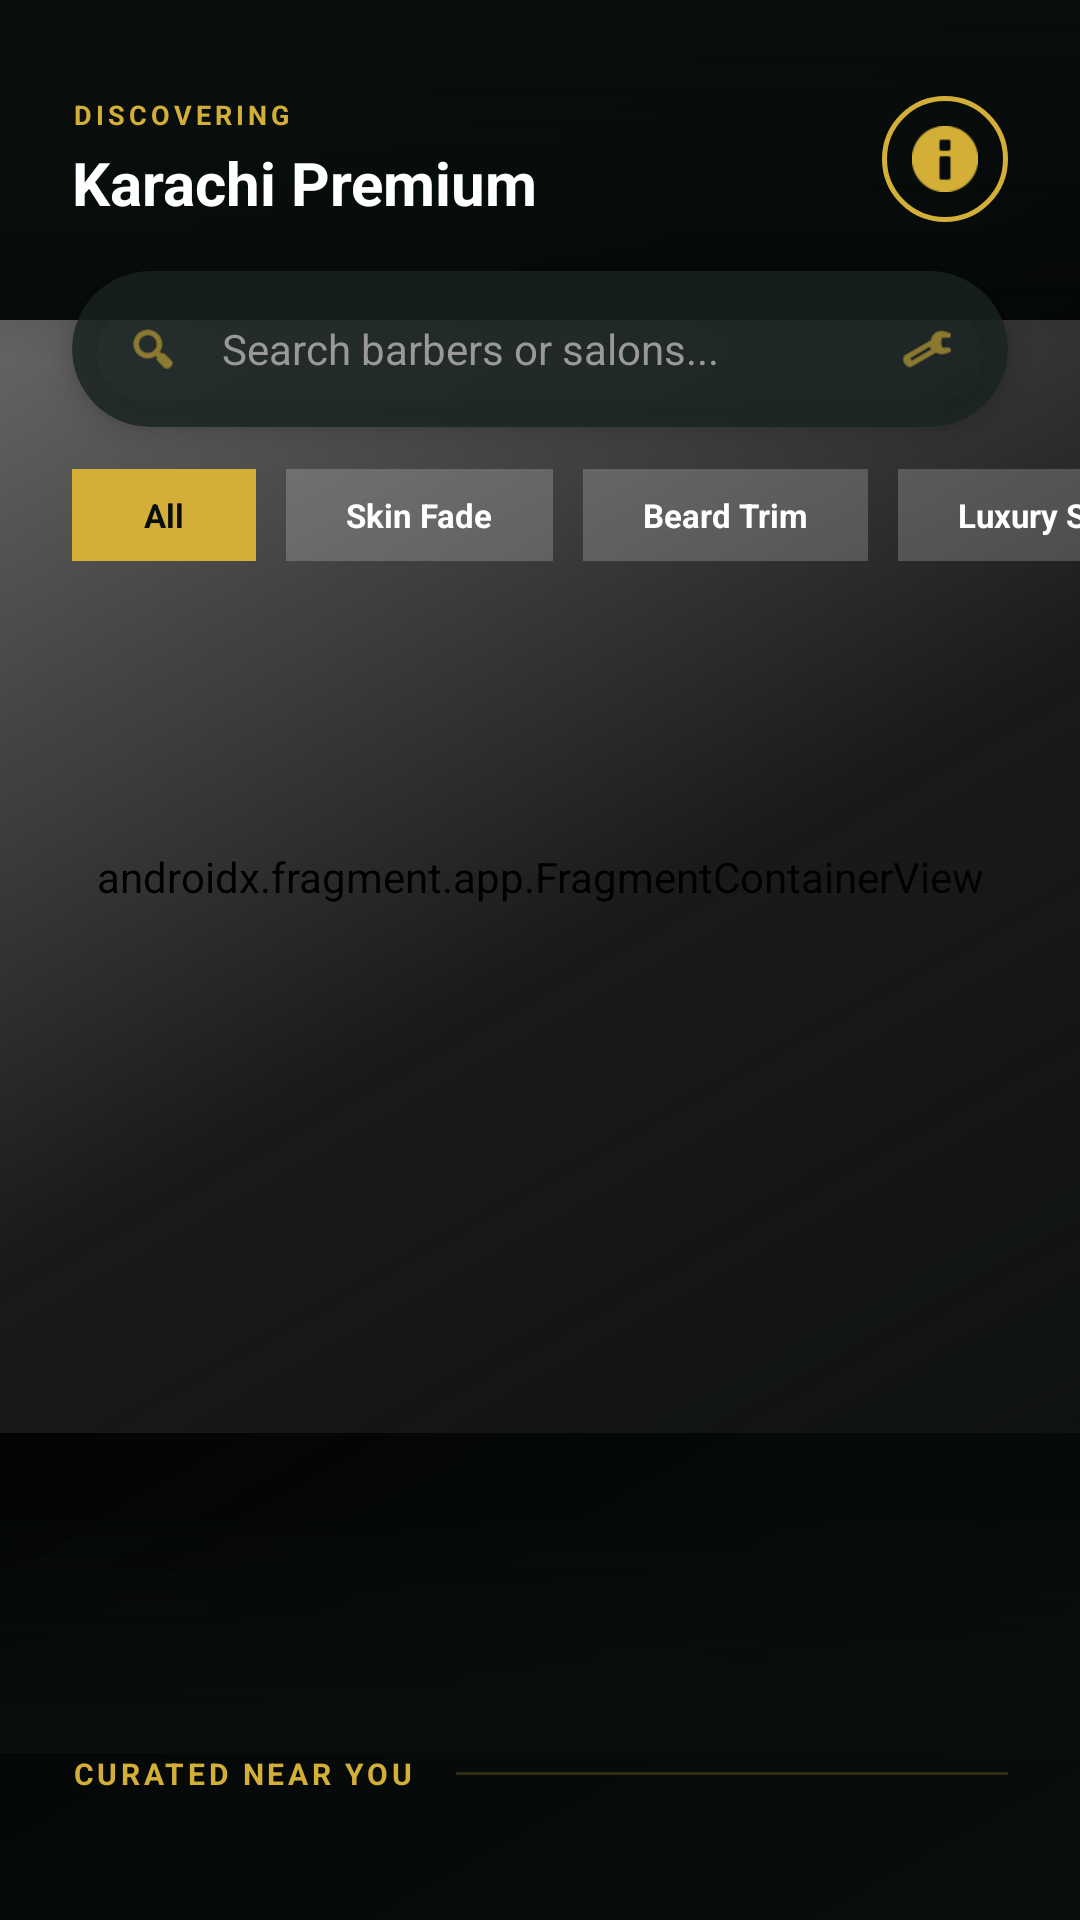

Where icons sit on this 1080w x 1920h app screen, as (x1, y1, x2, y2):
info: (882, 96, 1008, 222)
preferences: (903, 330, 951, 368)
